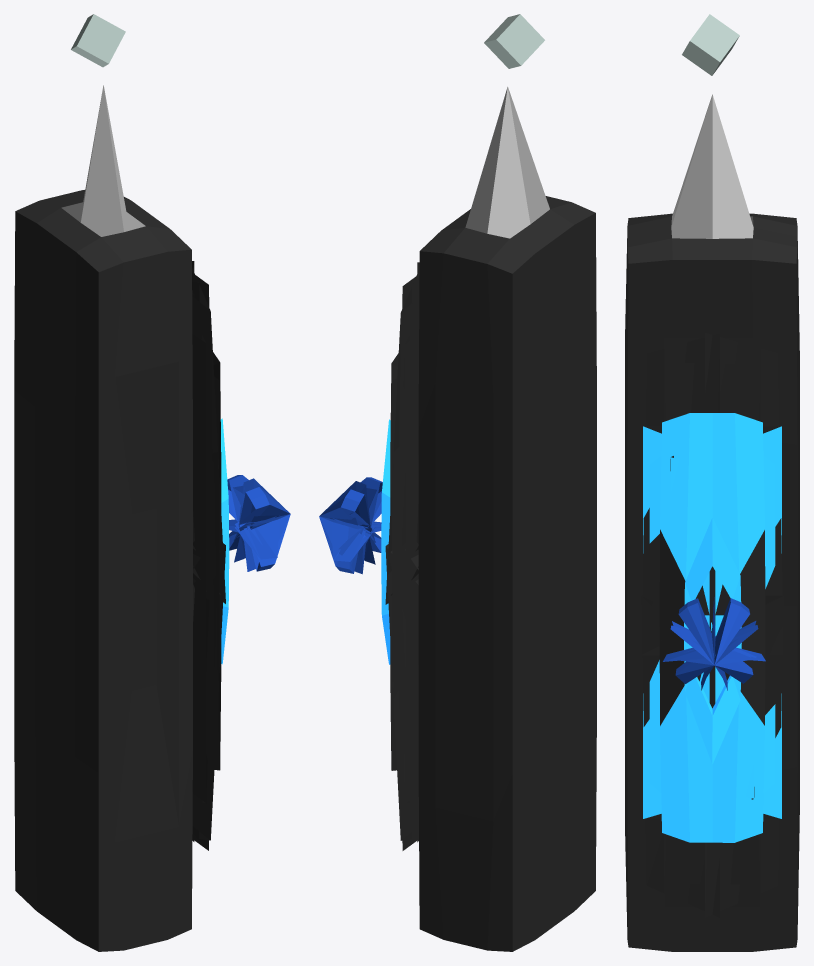
Rendered from tower model #2.fbx.
3 views of the same model, side by side, from view 1: azimuth 30°, elevation 25°; view 2: azimuth 150°, elevation 25°; view 3: azimuth 270°, elevation 25° (orthographic).
Visible parts, largest first — view 1: Cube, Circle, Cube.001; view 2: Cube, Circle, Cube.001; view 3: Cube, Circle, Cube.001.
Boxes of the visible parts, bbox=[...] form: Cube: bbox=[14, 85, 229, 951]; Circle: bbox=[227, 475, 290, 571]; Cube.001: bbox=[71, 14, 125, 67]; Cube: bbox=[381, 86, 596, 951]; Circle: bbox=[319, 477, 382, 574]; Cube.001: bbox=[484, 14, 544, 68]; Cube: bbox=[625, 94, 799, 951]; Circle: bbox=[663, 597, 765, 690]; Cube.001: bbox=[682, 14, 739, 75].
Size of the model in its own units: 219 by 806 by 139.
